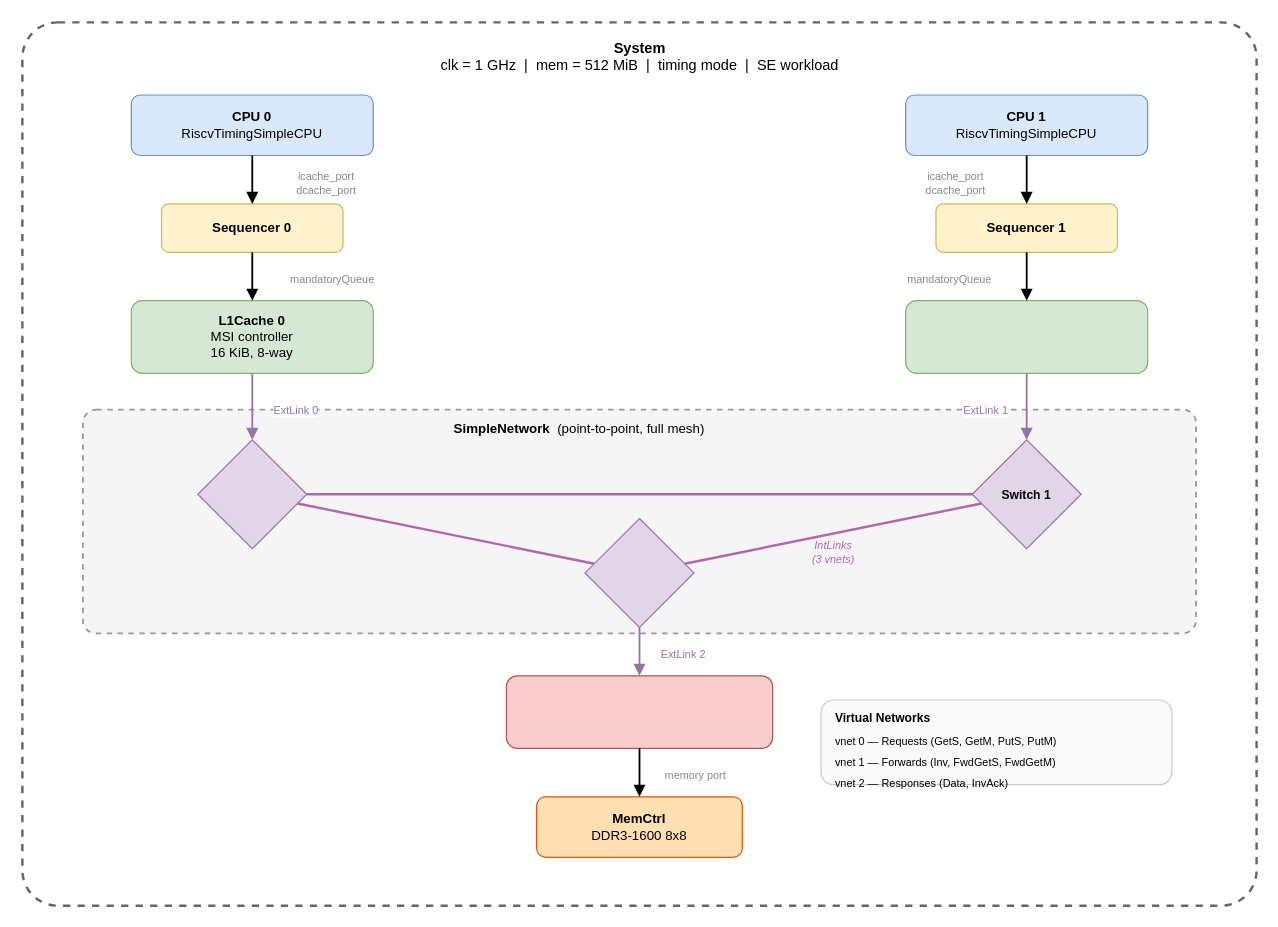
This 1278x927 diagram has some shape labels left out. Each missing label, with the centre of its shape:
DirController MSI controller RubyDirectoryMemory: (639,711)
L1Cache 1 MSI controller 16 KiB, 8-way: (1026,336)
Switch 0: (252,494)
Switch 2: (639,572)
